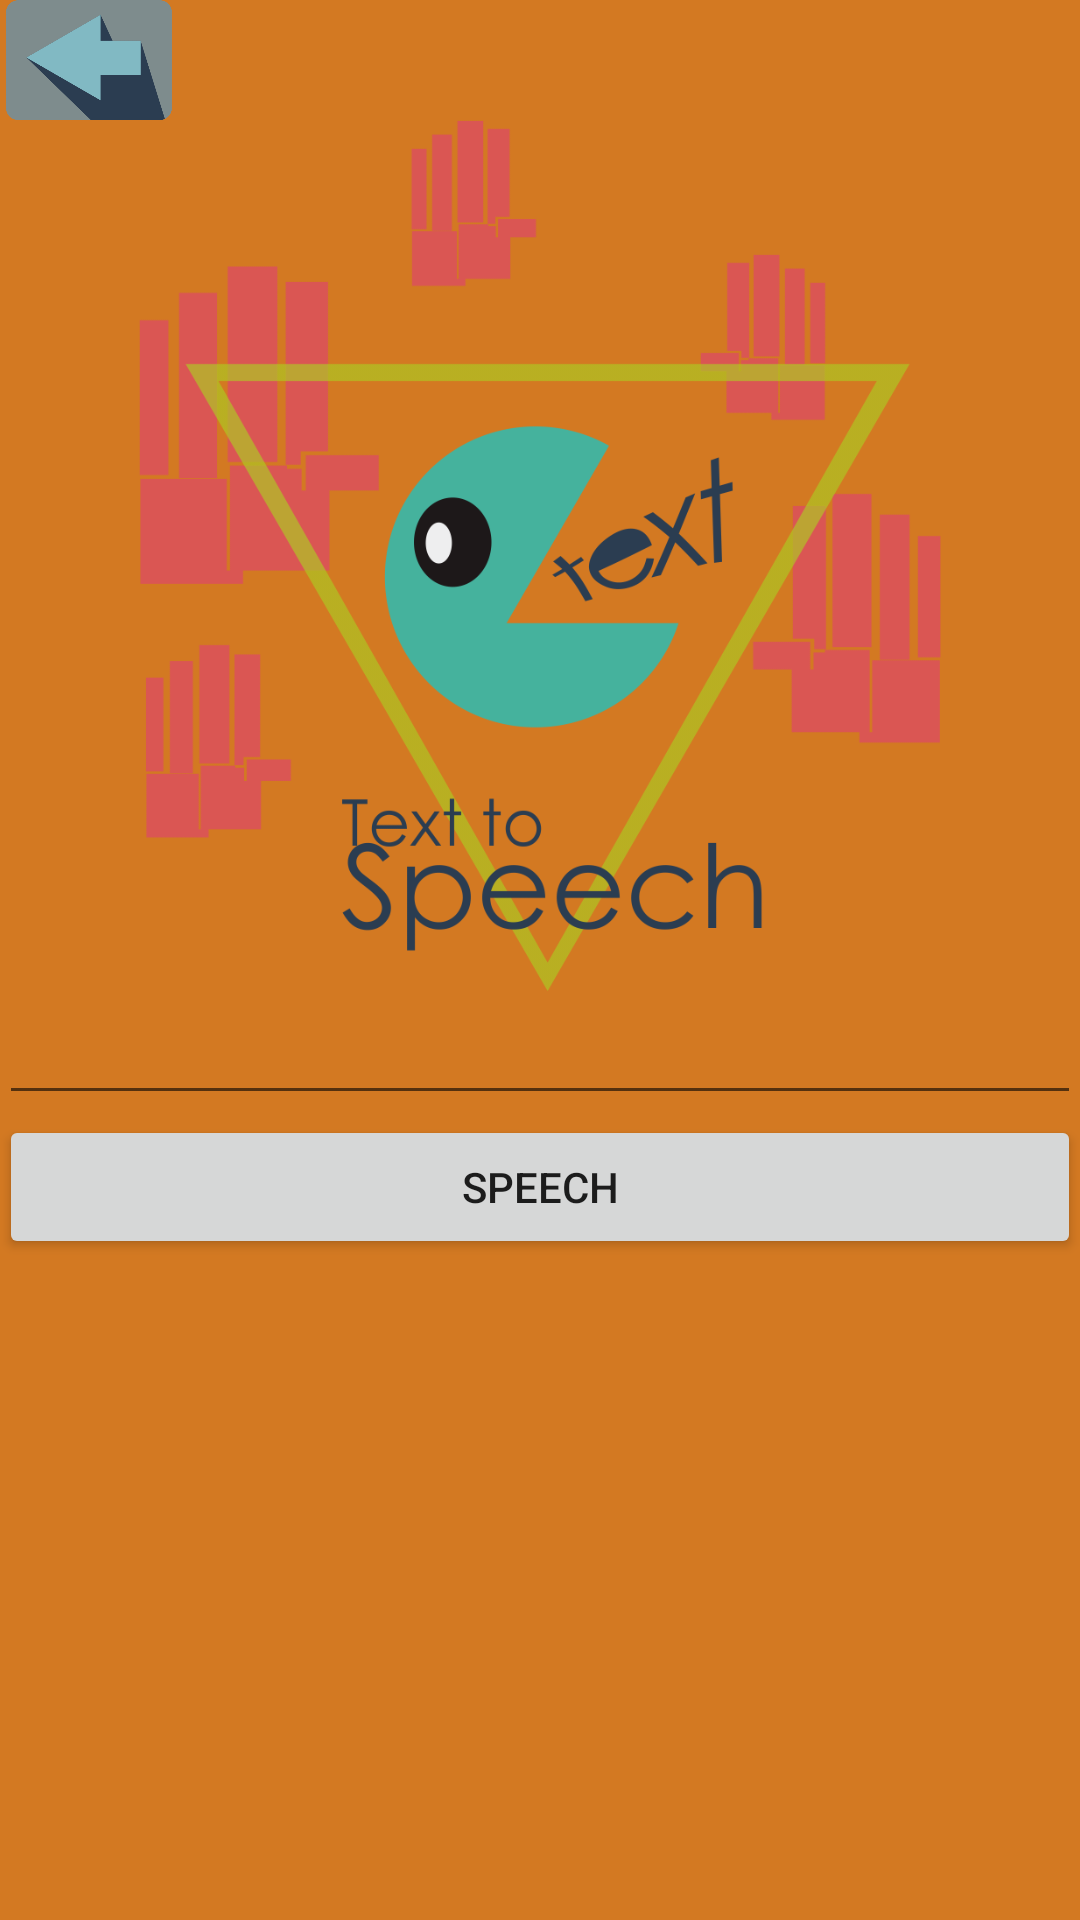

Screen size 1080px x 1920px. Icon name, then its box in pixels as (x1, y1, x2, y2):
back: (6, 0, 172, 120)
